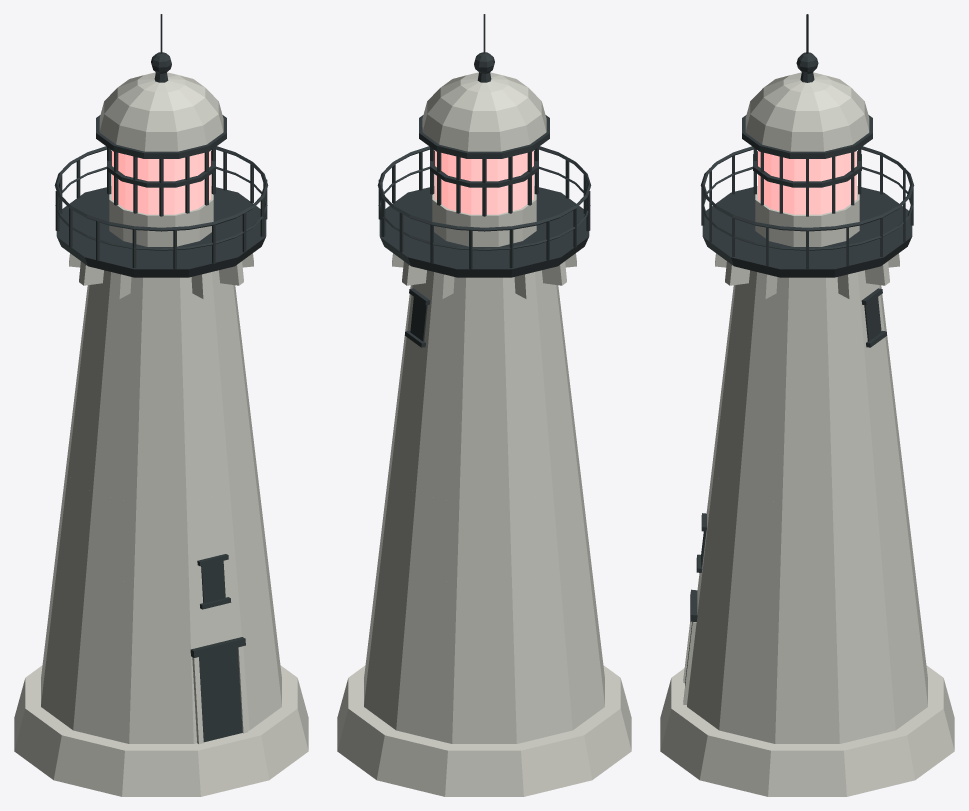
Rendered from white_beacon.glb.
The picture shows the model from 3 angles, left to right: view 1: azimuth 30°, elevation 25°; view 2: azimuth 150°, elevation 25°; view 3: azimuth 270°, elevation 25°; orthographic projection.
Visible parts, largest first — view 1: WhiteTower, Metal, Lens; view 2: WhiteTower, Metal, Lens; view 3: WhiteTower, Metal, Lens.
Part boxes in pixels (x1=…): WhiteTower: x1=14, y1=72, x2=308, y2=796; Metal: x1=54, y1=14, x2=268, y2=742; Lens: x1=112, y1=150, x2=210, y2=214; WhiteTower: x1=337, y1=72, x2=631, y2=796; Metal: x1=377, y1=14, x2=591, y2=347; Lens: x1=435, y1=150, x2=533, y2=214; WhiteTower: x1=660, y1=72, x2=954, y2=796; Metal: x1=685, y1=14, x2=914, y2=685; Lens: x1=758, y1=151, x2=856, y2=214.
Size of the model in its own units: 0.4632 by 1.25 by 0.4632.
